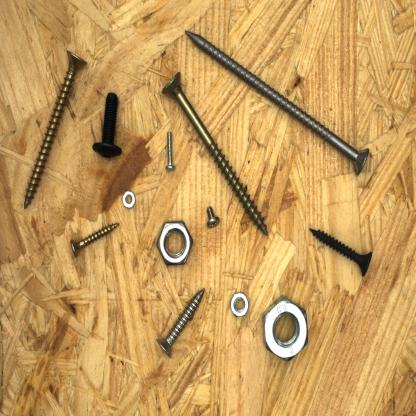screw: (182, 27, 374, 180), (159, 69, 272, 241), (21, 44, 92, 212), (152, 284, 209, 362), (308, 223, 375, 282), (89, 89, 130, 161), (65, 218, 125, 259), (160, 126, 180, 174), (201, 202, 226, 232)
